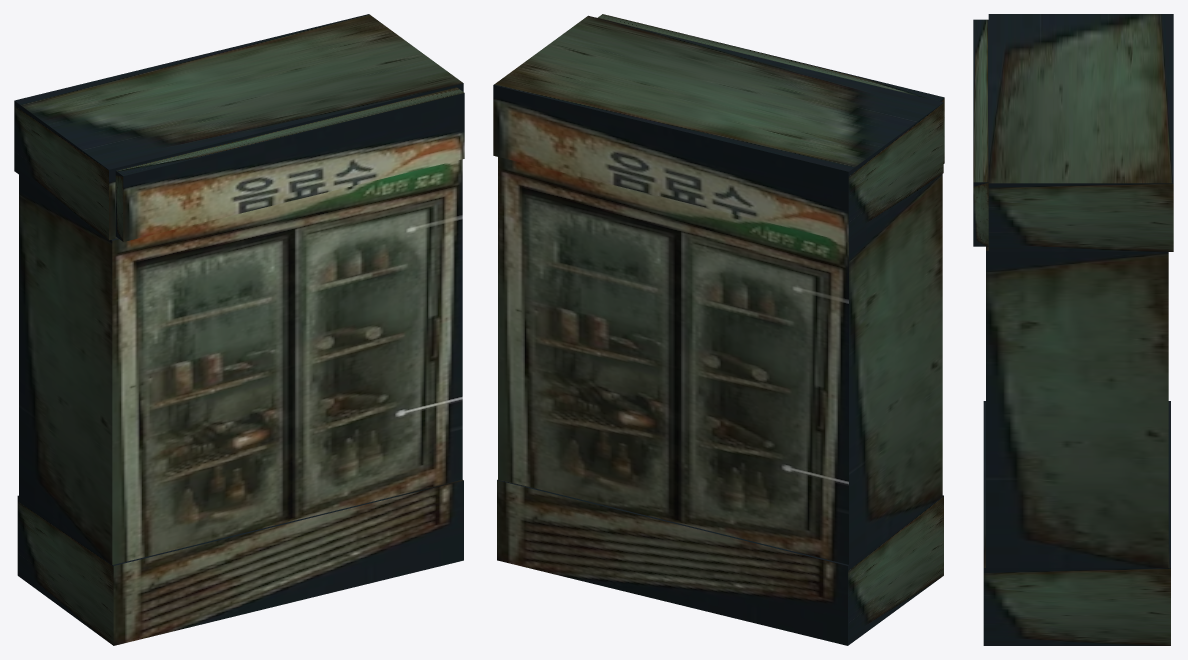
File: sf_beverage_fridge.glb
The picture shows the model from 3 angles, left to right: view 1: azimuth 30°, elevation 25°; view 2: azimuth 150°, elevation 25°; view 3: azimuth 270°, elevation 25°; orthographic projection. The views are drawn at different scales.
Visible parts, largest first — view 1: ChilledBeverageShowcase_Root, ChilledBeverageShowcase_AnimPart; view 2: ChilledBeverageShowcase_Root, ChilledBeverageShowcase_AnimPart; view 3: ChilledBeverageShowcase_Root, ChilledBeverageShowcase_AnimPart.
Boxes of the visible parts, box(x1,y1,x2,y2) form: ChilledBeverageShowcase_Root: box(14, 14, 463, 645); ChilledBeverageShowcase_AnimPart: box(115, 87, 464, 241); ChilledBeverageShowcase_Root: box(493, 15, 943, 645); ChilledBeverageShowcase_AnimPart: box(597, 14, 944, 163); ChilledBeverageShowcase_Root: box(983, 14, 1173, 645); ChilledBeverageShowcase_AnimPart: box(973, 19, 988, 246).
Size of the model in its own units: 1.58 by 2.02 by 0.79.
Materials: 1 (1 with a texture image).
